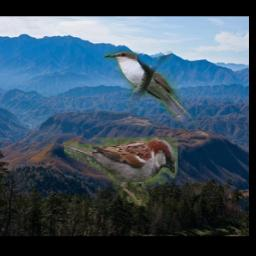Cuckoo: (103, 52, 199, 135)
Sparrow: (63, 137, 177, 206)
